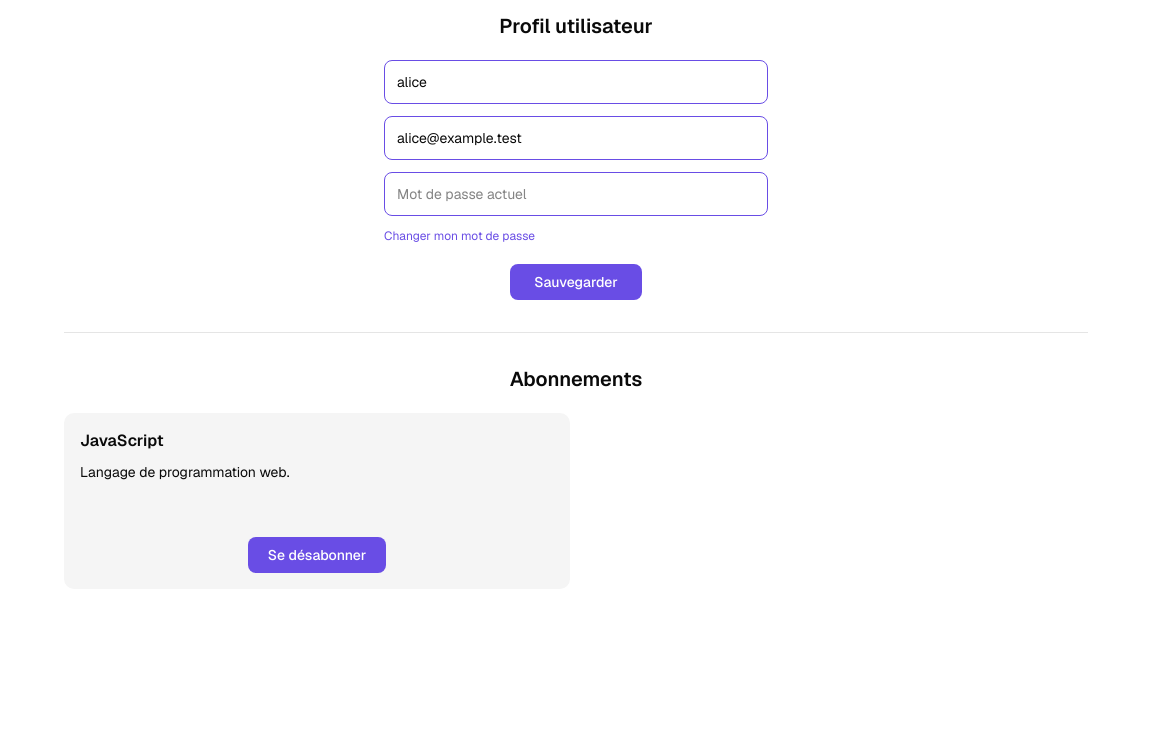
Test: ProfilePage › met à jour le pseudo après vérification du mot de passe
Replace the text in the 1st field named "Nom d'utilisateur" with "alice_dev" at (576, 82), box [384,60,768,104]
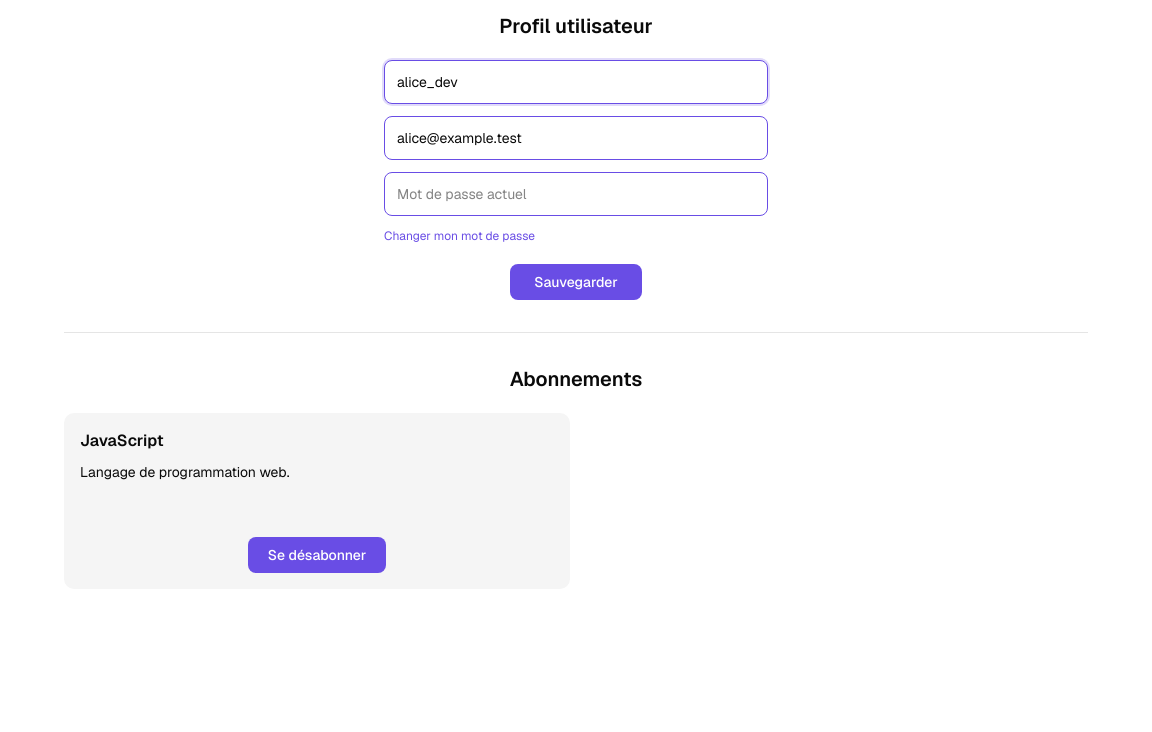
Type "MotDePasseActuel123!" into the password field labelled "Mot de passe actuel" at (576, 194), box [384,172,768,216]
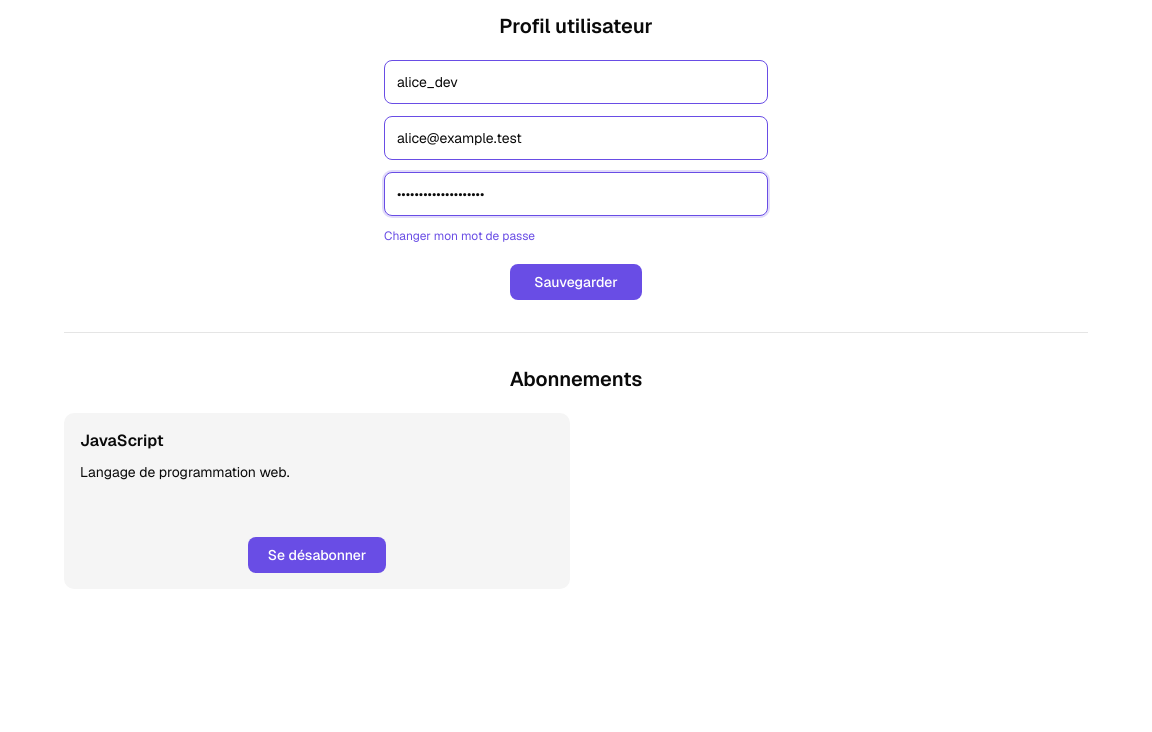
Click the button "Sauvegarder" at (576, 282), box [510,264,642,300]
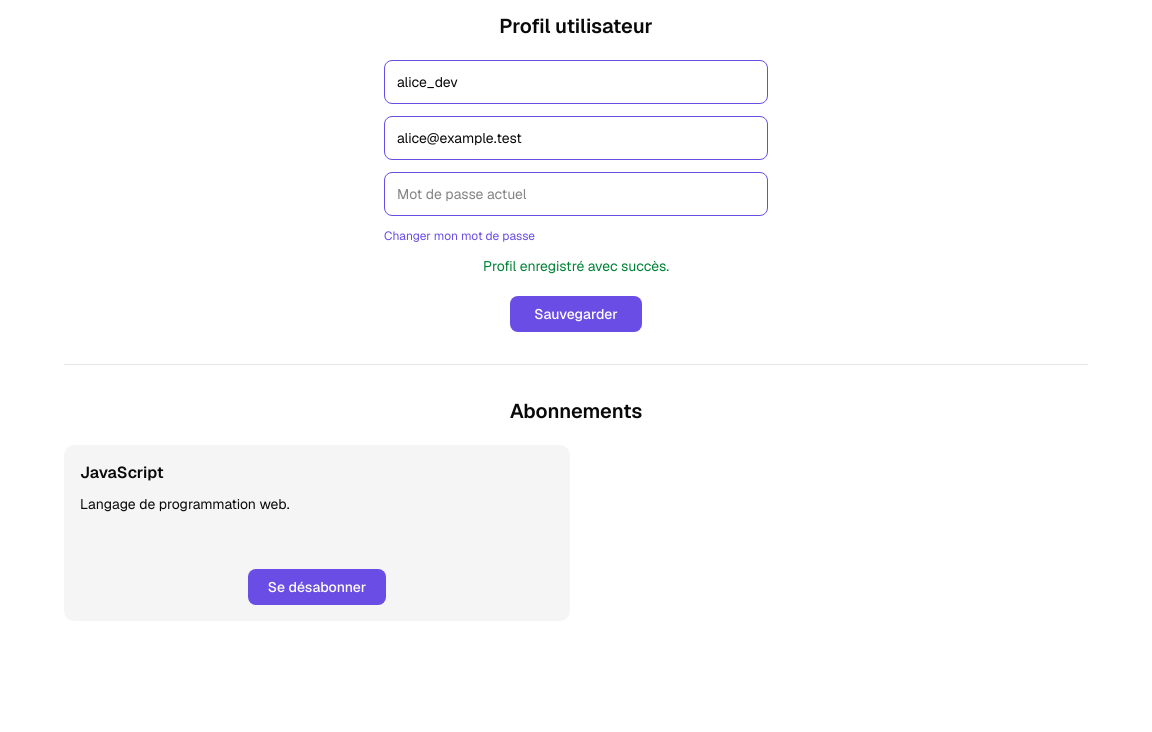
Check: the message reads "Profil enregistré avec succès.", box [483,257,669,275]
